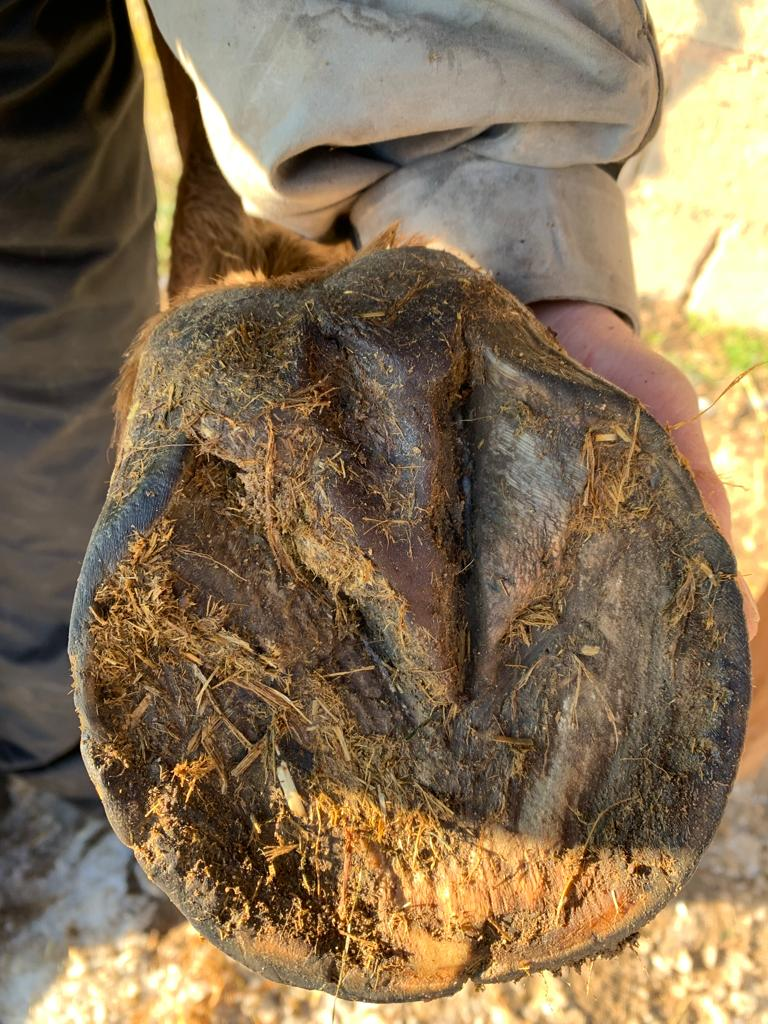horsesole: (66, 338, 751, 1004)
